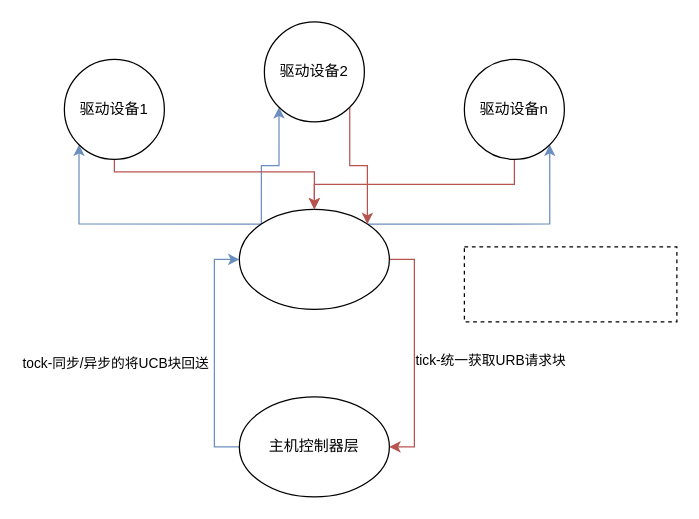
The diagram is 699 pixels wide and 519 high, and some of its shapes have lost their labels. The centre of each missing label's shape, as x and y in pixels:
"USB层" belongs at pixel 313 258.
"红色：发送URB 蓝色：接收UCB" belongs at pixel 570 284.
